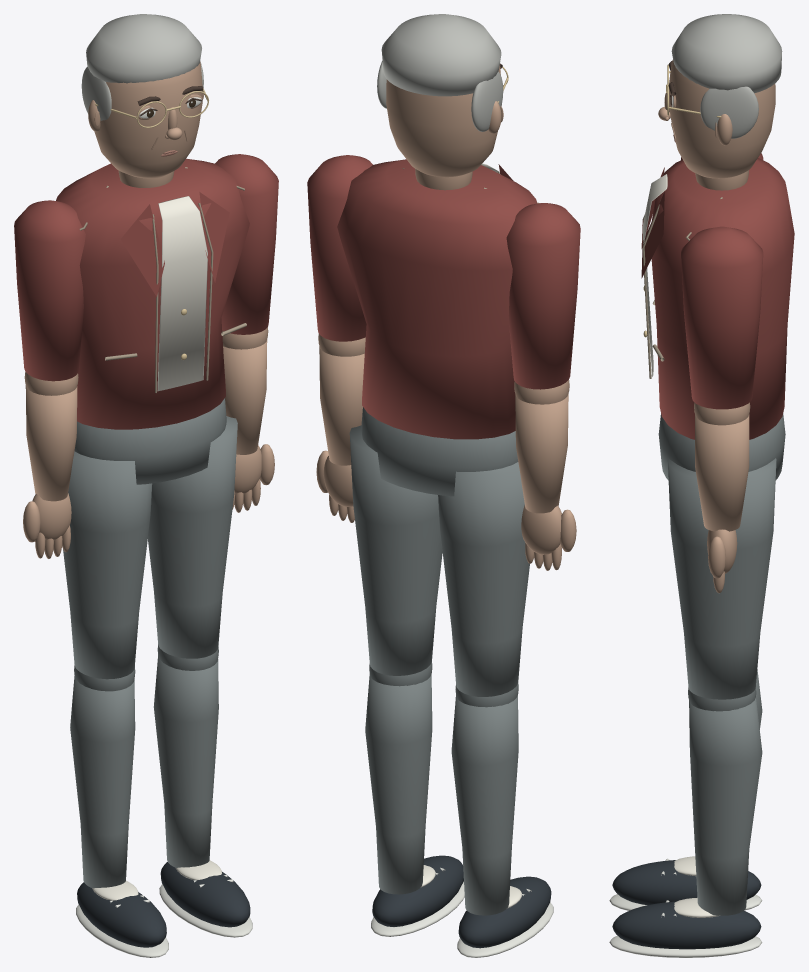
The model's file is npc_elder.glb.
The picture shows the model from 3 angles, left to right: view 1: azimuth 30°, elevation 25°; view 2: azimuth 150°, elevation 25°; view 3: azimuth 270°, elevation 25°; orthographic projection. The views are drawn at different scales.
Visible parts, largest first — view 1: Torso_civilian_clothes, trouser thigh, trouser thigh.001, LowerLeg_R_pants, LowerLeg_L_pants, sleeve, visible inner tee, Head_skin, LowerArm_L_skin, Head_hair, sleeve.001, trouser waist (+6 smaller); view 2: Torso_civilian_clothes, trouser thigh, trouser thigh.001, LowerLeg_R_pants, LowerLeg_L_pants, sleeve, Head_hair, LowerArm_L_skin, sleeve.001, Head_skin, trouser waist, LowerArm_R_skin (+5 smaller); view 3: Torso_civilian_clothes, trouser thigh.001, LowerLeg_R_pants, sleeve.001, Head_hair, LowerArm_R_skin, Head_skin, sneaker upper.001, sneaker upper, trouser waist, Foot_R_sole, visible inner tee (+4 smaller).
Boxes of the visible parts, left/top/right/bottom form: Torso_civilian_clothes: left=56, top=158, right=249, bottom=429; trouser thigh: left=63, top=451, right=152, bottom=679; trouser thigh.001: left=148, top=416, right=237, bottom=658; LowerLeg_R_pants: left=153, top=644, right=218, bottom=867; LowerLeg_L_pants: left=70, top=665, right=135, bottom=888; sleeve: left=14, top=200, right=85, bottom=381; visible inner tee: left=157, top=196, right=207, bottom=391; Head_skin: left=88, top=61, right=202, bottom=178; LowerArm_L_skin: left=23, top=372, right=78, bottom=558; Head_hair: left=81, top=14, right=203, bottom=120; sleeve.001: left=215, top=154, right=278, bottom=334; trouser waist: left=74, top=398, right=226, bottom=484; Torso_civilian_clothes: left=337, top=159, right=537, bottom=439; trouser thigh: left=438, top=462, right=529, bottom=696; trouser thigh.001: left=349, top=425, right=442, bottom=675; LowerLeg_R_pants: left=365, top=662, right=432, bottom=894; LowerLeg_L_pants: left=451, top=683, right=518, bottom=915; sleeve: left=506, top=203, right=580, bottom=389; Head_hair: left=377, top=14, right=503, bottom=131; LowerArm_L_skin: left=514, top=380, right=576, bottom=570; sleeve.001: left=307, top=155, right=372, bottom=341; Head_skin: left=386, top=65, right=501, bottom=177; trouser waist: left=361, top=407, right=518, bottom=496; LowerArm_R_skin: left=316, top=333, right=365, bottom=522; Torso_civilian_clothes: left=641, top=158, right=794, bottom=439; trouser thigh.001: left=667, top=458, right=776, bottom=699; LowerLeg_R_pants: left=688, top=687, right=762, bottom=915; sleeve.001: left=681, top=226, right=763, bottom=409; Head_hair: left=671, top=14, right=782, bottom=138; LowerArm_R_skin: left=694, top=402, right=750, bottom=593; Head_skin: left=658, top=59, right=775, bottom=178; sneaker upper.001: left=612, top=901, right=761, bottom=949; sneaker upper: left=612, top=860, right=761, bottom=904; trouser waist: left=658, top=413, right=785, bottom=480; Foot_R_sole: left=609, top=900, right=762, bottom=957; visible inner tee: left=642, top=174, right=667, bottom=376.
Size of the model in its own units: 0.4822 by 1.62 by 0.2999.
